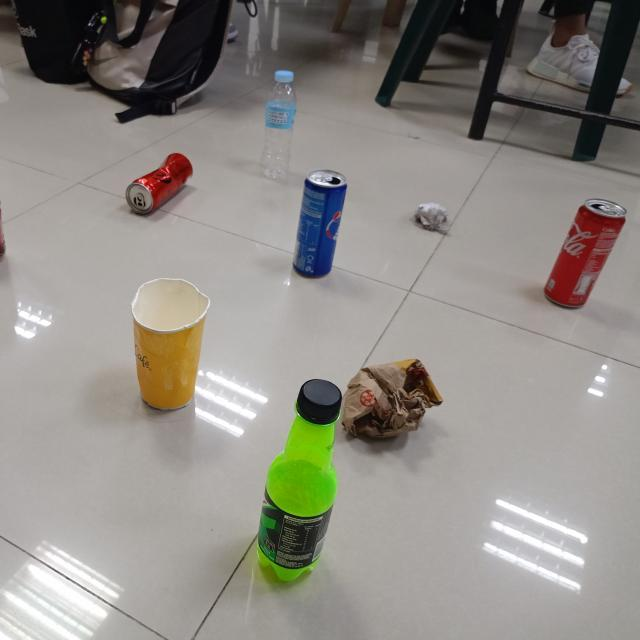recyclable waste: (248, 371, 348, 590), (128, 271, 214, 419), (536, 193, 632, 314), (334, 352, 449, 444), (288, 164, 352, 281), (120, 146, 198, 220), (257, 63, 301, 184), (410, 198, 454, 238)
